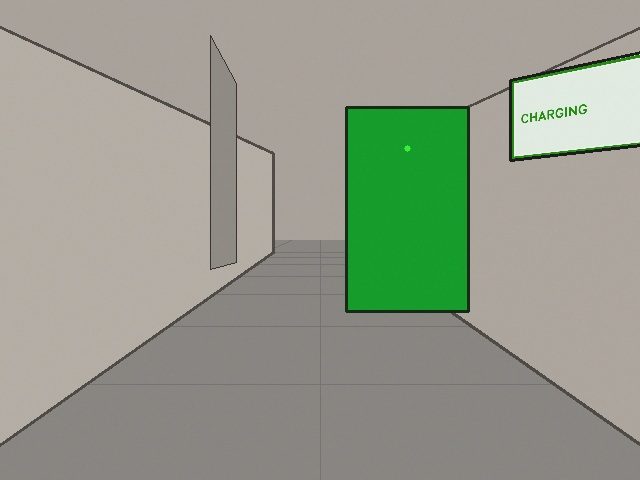charging_station: (346, 107, 468, 311)
directional_sign: (510, 37, 639, 160)
